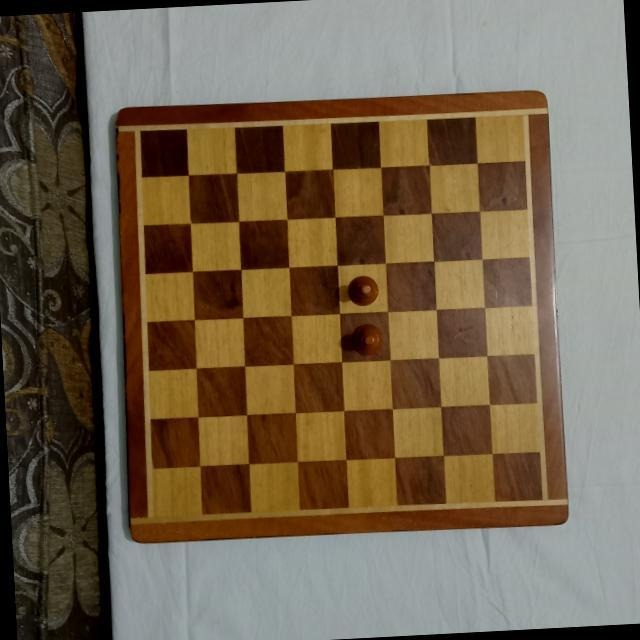white-pawn: (345, 274, 381, 309), (348, 323, 384, 357)
